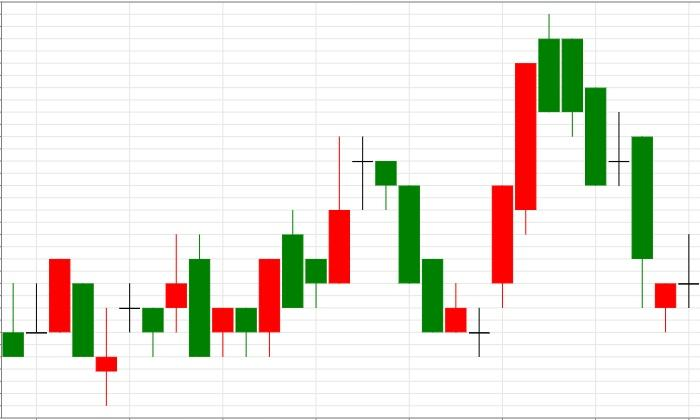bearish_engulfing_fall: (96, 233, 210, 407)
